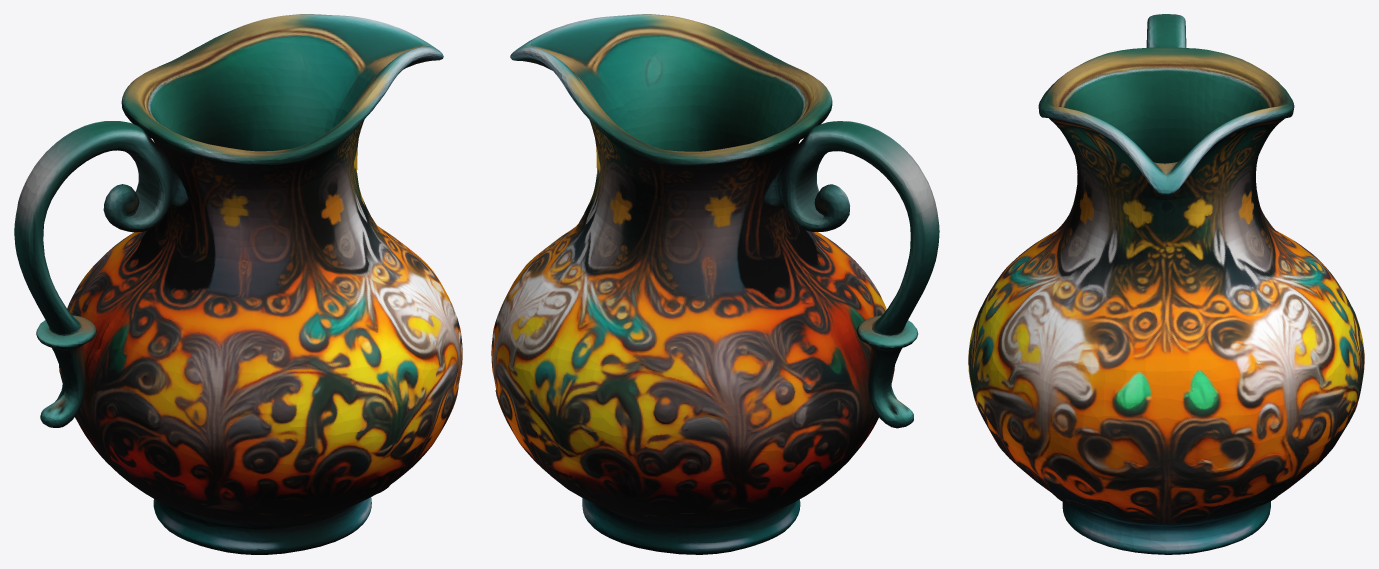
File: ceramic-fancy-pitcher-3d.jpeg.glb
3 renders of one model, left to right at view 1: azimuth 30°, elevation 25°; view 2: azimuth 150°, elevation 25°; view 3: azimuth 270°, elevation 25°, orthographic. The views are drawn at different scales.
Parts seen in each view (by area): view 1: world; view 2: world; view 3: world.
Part boxes in pixels (x1,y1,x2,y2): world: [14, 14, 462, 554]; world: [491, 14, 939, 554]; world: [968, 14, 1364, 554].
Bounding box in the file's own units: 0.9842 × 1 × 0.8214.
1 material, 1 textured.
